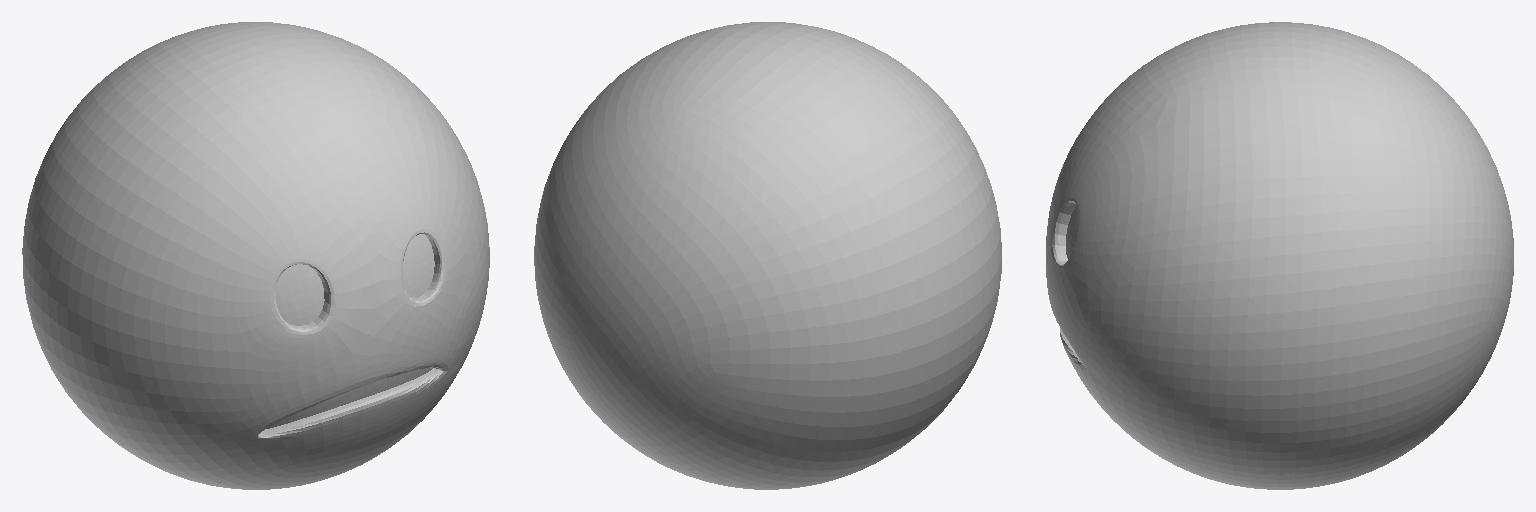
Rendered from smirk.obj.
The picture shows the model from 3 angles: view 1: azimuth 30°, elevation 25°; view 2: azimuth 150°, elevation 25°; view 3: azimuth 270°, elevation 25°; orthographic projection.
Parts seen in each view (by area): view 1: Group7782, Group52081; view 2: Group7782; view 3: Group7782.
Part boxes in pixels (bbox=[...]): Group7782: bbox=[22, 22, 489, 489]; Group52081: bbox=[267, 234, 434, 428]; Group7782: bbox=[534, 22, 1001, 489]; Group7782: bbox=[1046, 22, 1513, 489].
Bounding box in the file's own units: 2.18 × 2.19 × 2.19.